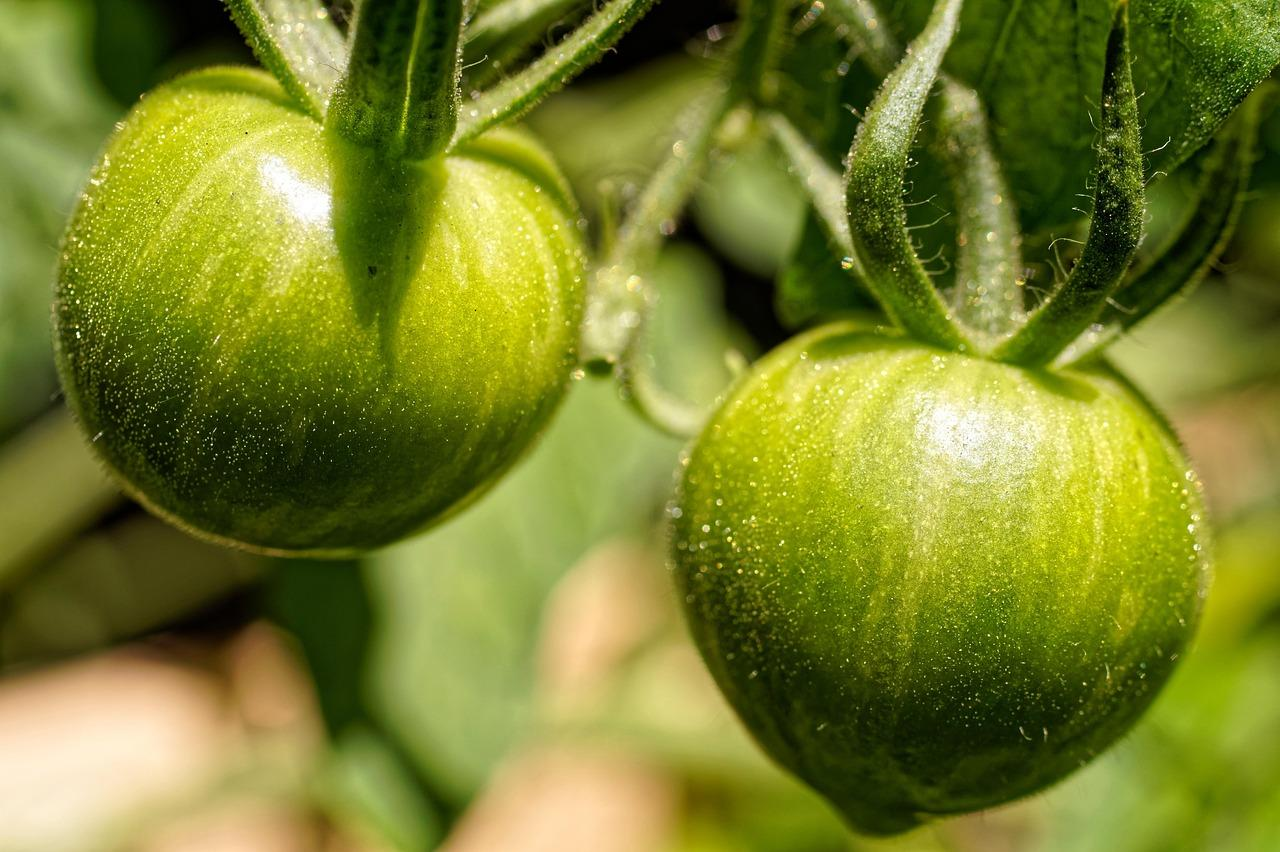Muda: (612, 248, 1236, 826), (20, 16, 600, 615)
